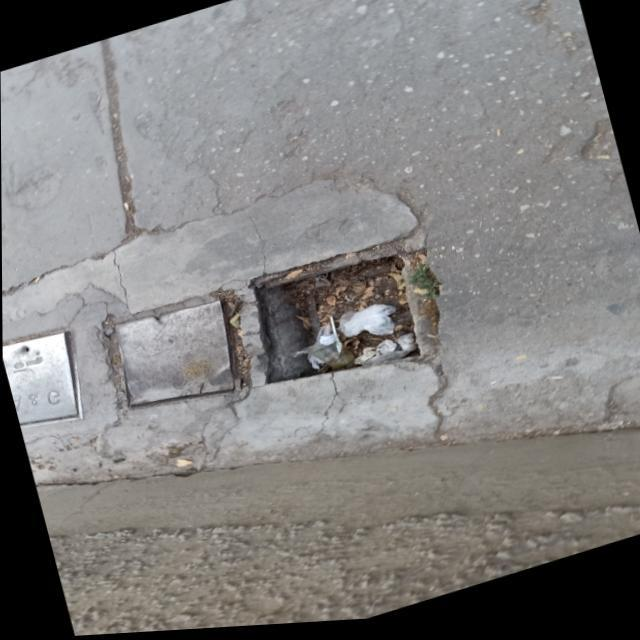hole: (240, 244, 430, 409)
